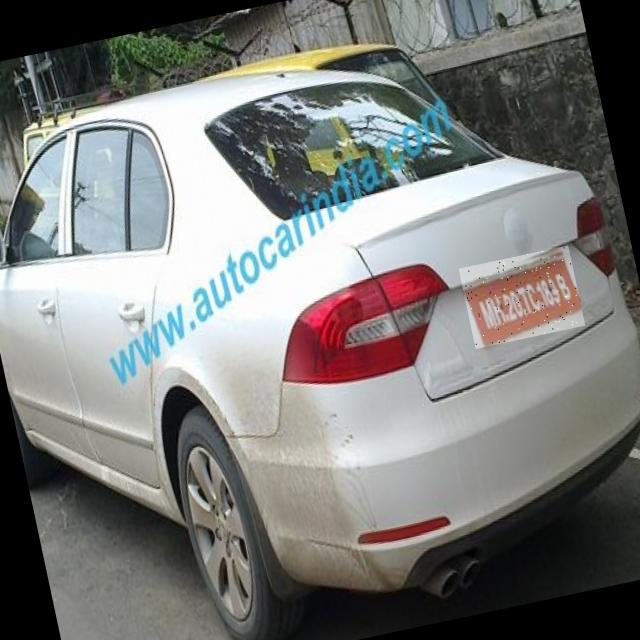Plate: (459, 246, 586, 350)
